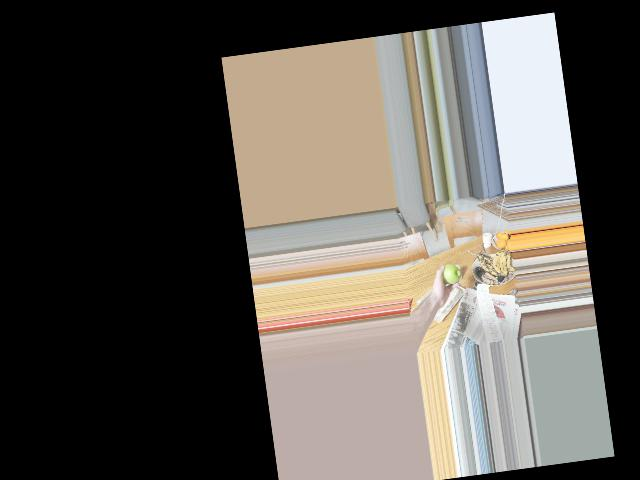apple: (438, 261, 461, 287)
